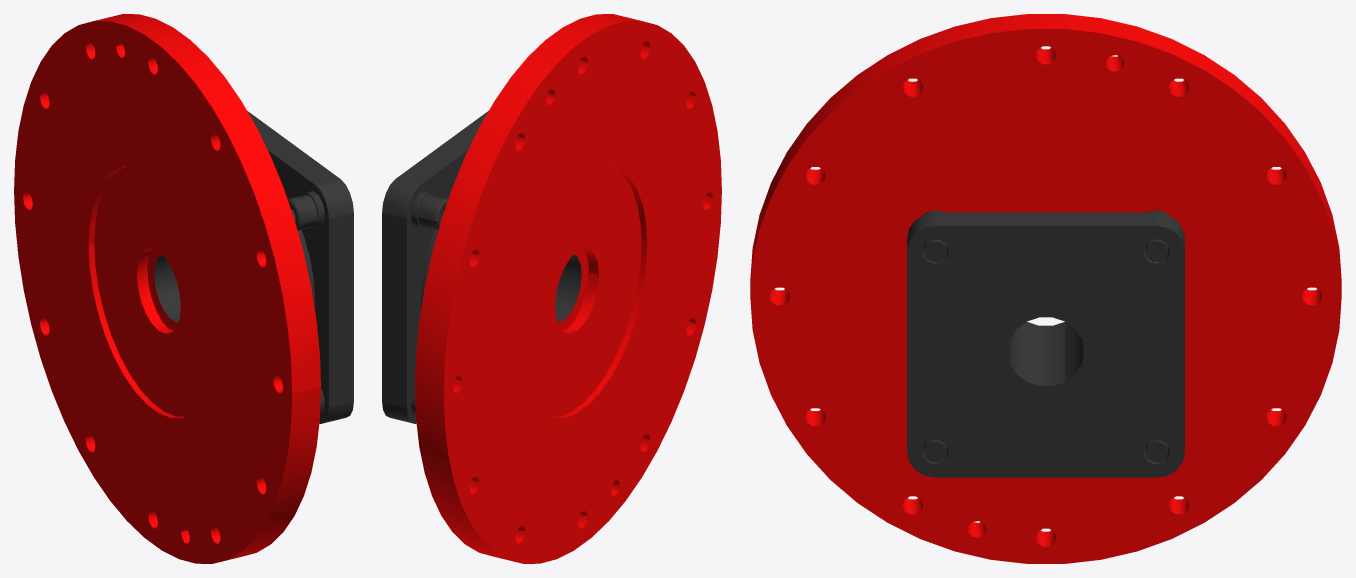
The model's file is Idler_Faceplate_P2.dae.
The picture shows the model from 3 angles, left to right: view 1: azimuth 30°, elevation 25°; view 2: azimuth 150°, elevation 25°; view 3: azimuth 270°, elevation 25°; orthographic projection. The views are drawn at different scales.
Parts seen in each view (by area): view 1: Node_0000018E3E9D9960 (×2); view 2: Node_0000018E3E9D9960 (×2); view 3: Node_0000018E3E9D9960 (×2).
Boxes of the visible parts, left/top/right/bottom form: Node_0000018E3E9D9960 (×2): left=14, top=14, right=353, bottom=563; Node_0000018E3E9D9960 (×2): left=382, top=14, right=721, bottom=563; Node_0000018E3E9D9960 (×2): left=750, top=14, right=1341, bottom=563.
Size of the model in its own units: 0.1406 by 0.499 by 0.5.
